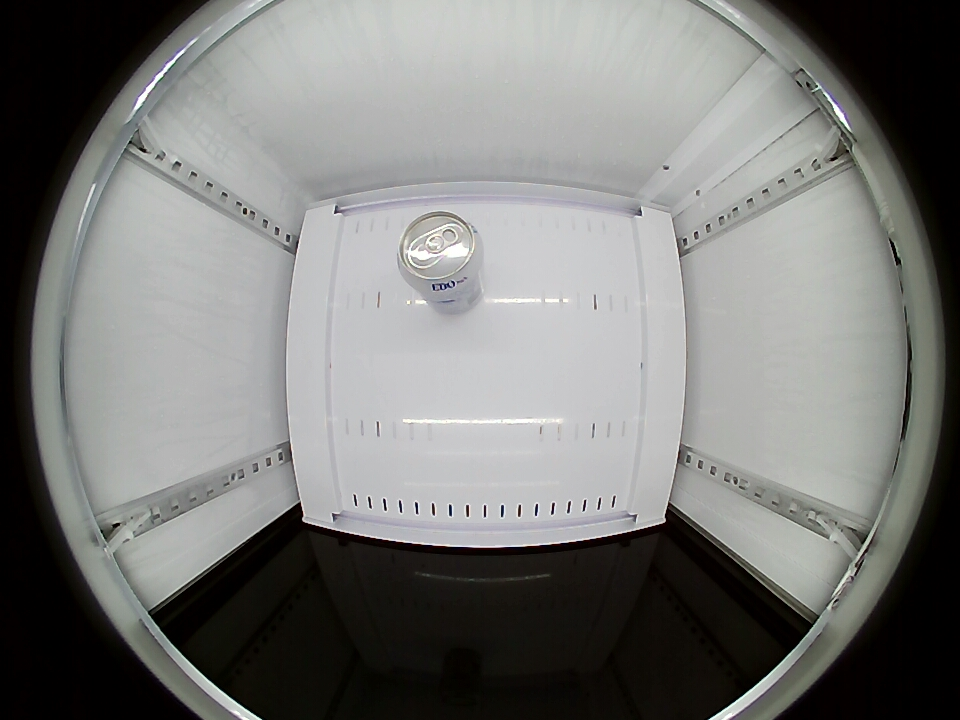rusuanjunqishui: (396, 211, 483, 297)
